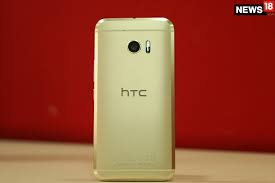htc: (89, 16, 180, 180)
